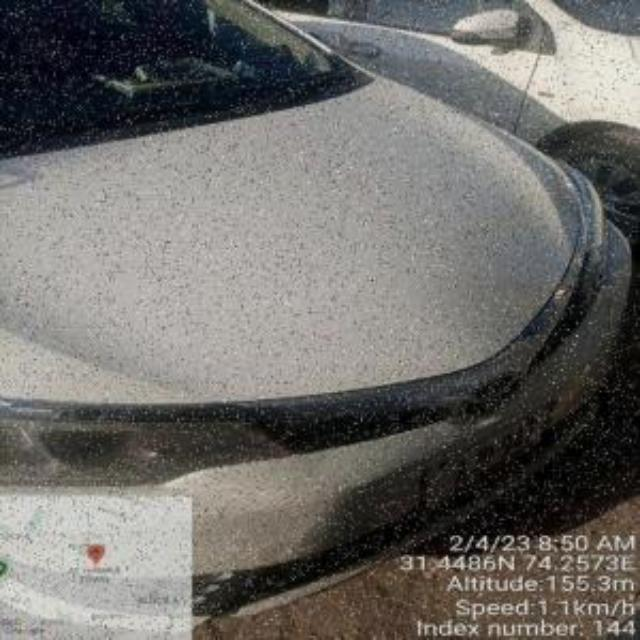License Plate: (422, 403, 556, 517)
